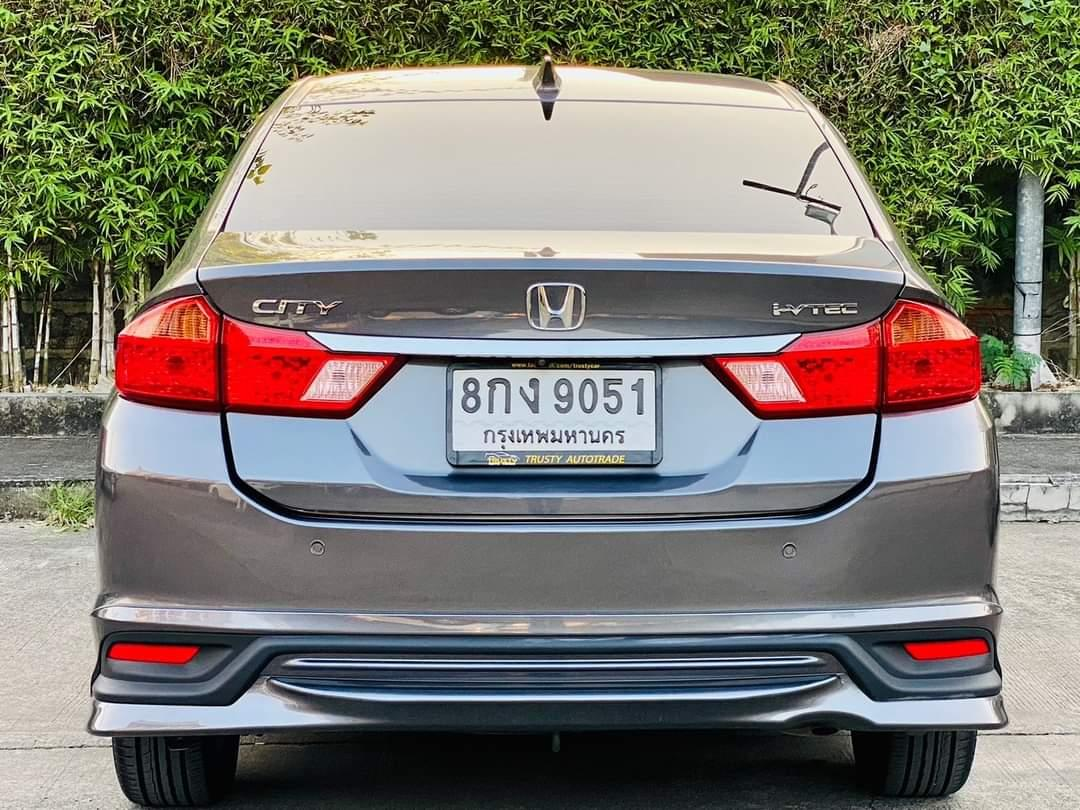license-plate: (446, 353, 664, 469)
